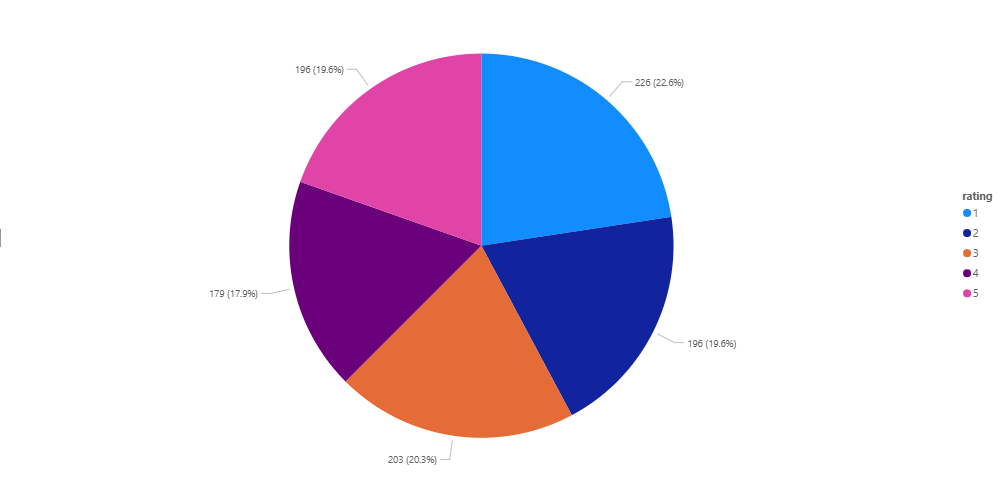

The page's visual inventory and layout, read from the dashboard file:
{"tool":"powerbi","page":{"name":"Books Distribution by Rating","canvas":[1280,720],"ordinal":0},"visuals":[{"type":"pieChart","fields":{"Series":["analytics_gold gold_books.rating"],"Y":["Sum(analytics_gold gold_books.total_books_rating)"]},"box":[0,60.5,1279.4,659.5],"z":0}]}

Visuals, with their boxes on the page's 1280x720 design canvas (x1, y1, x2, y2). These are canvas units, not pixel positions in the 1000x483 screenshot, which may show the page scaled, cropped or inside an application window:
pieChart - analytics_gold gold_books.rating x Sum(analytics_gold gold_books.total_books_rating): bbox=(0, 60, 1279, 720)
